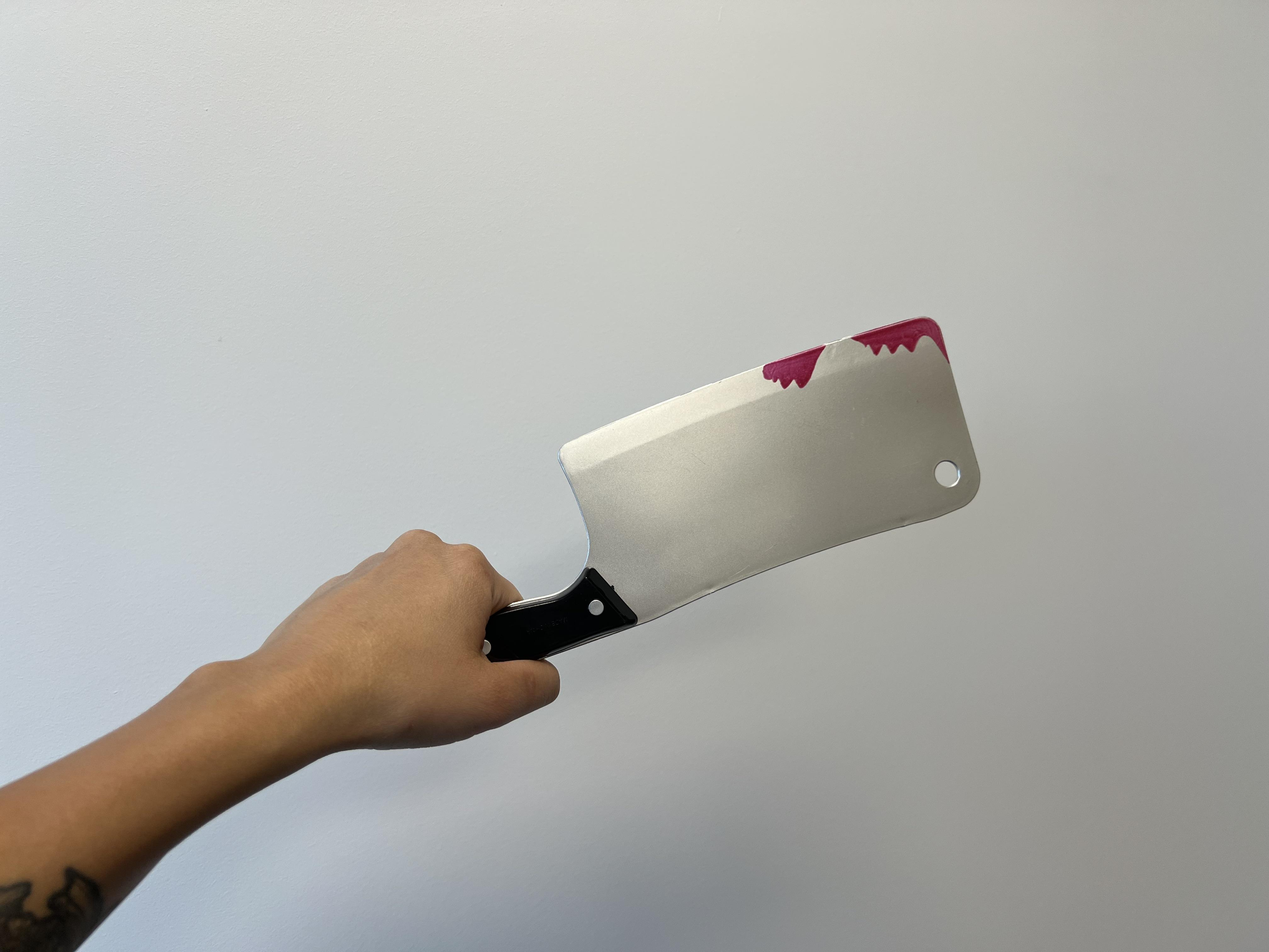Knife: (0, 528, 559, 952), (495, 317, 985, 666), (284, 526, 560, 751)
